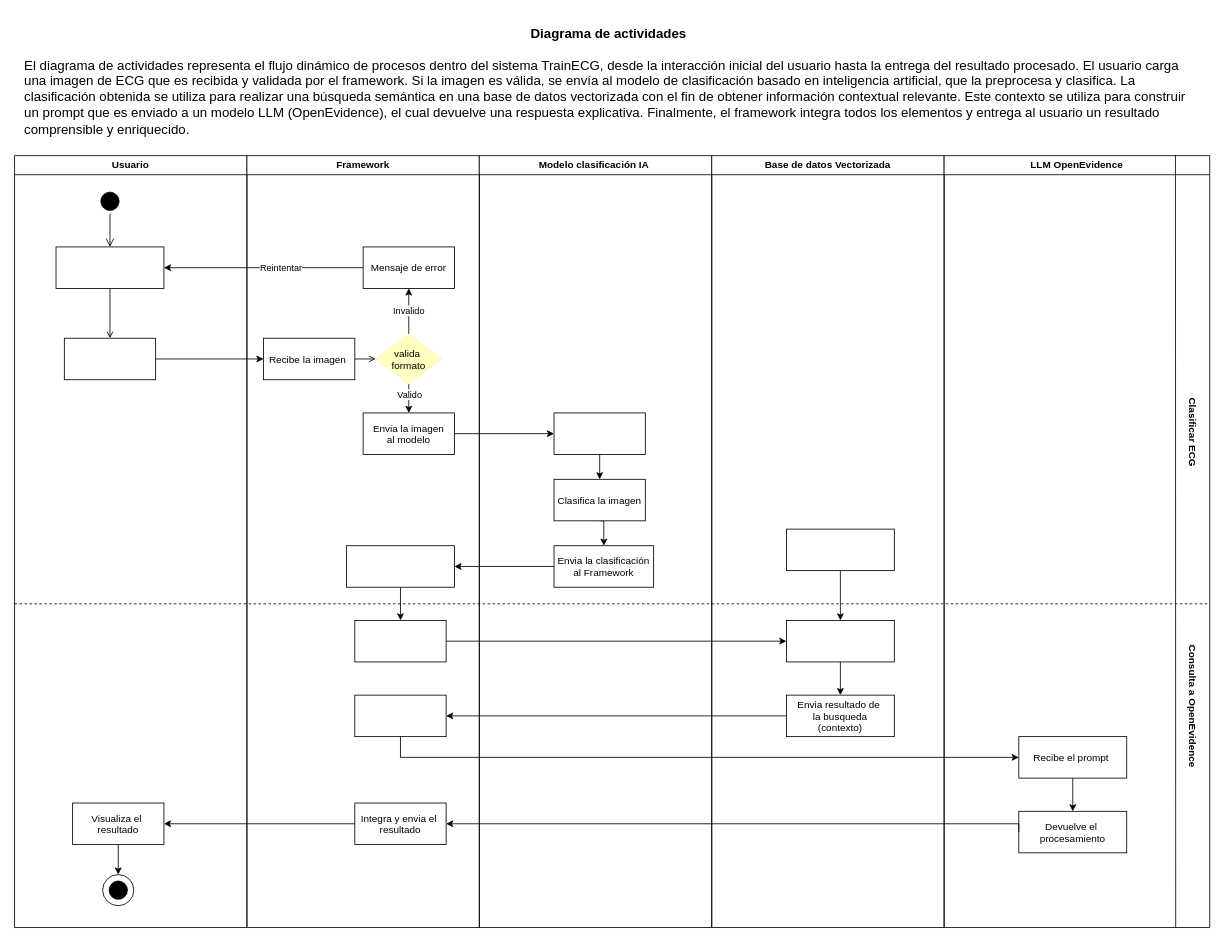
Image size: 1225x943. Some labels were removed from this diagram. Here are the shapes that lost their labels. From the top down, the centre of each, then its label:
At pixel 109 267: "Carga imagen de ECG".
At pixel 109 358: "Envia imagen al sistema".
At pixel 599 433: "Recibe la imagen y la preprocesa".
At pixel 400 566: "Recibe la clasificación".
At pixel 840 549: "Contexto Alimenta la base de datos".
At pixel 400 641: "Hace la busqueda semantica".
At pixel 840 641: "Recibe la consulta".
At pixel 400 715: "Recibe el contexto y lo envia al LLM (prompt)".
